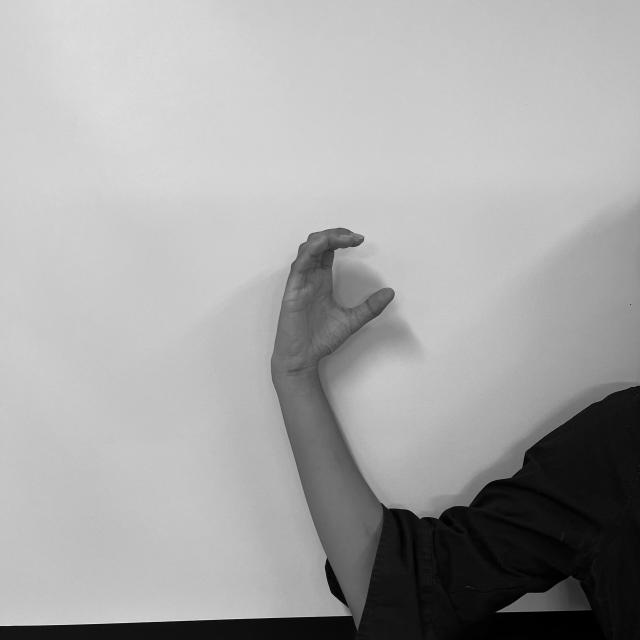Letra C: (266, 220, 398, 372)
